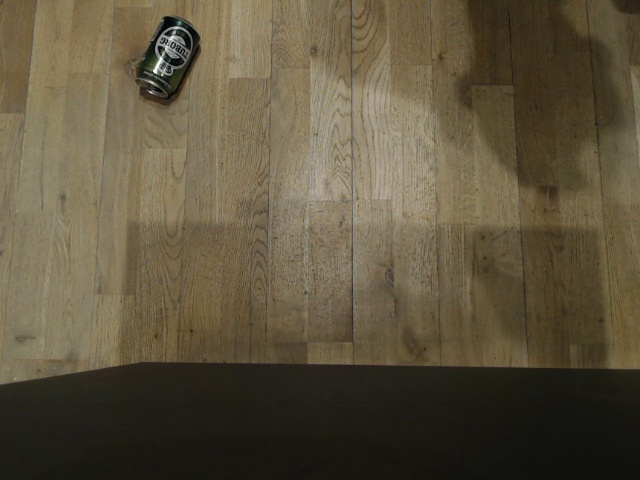beer: (133, 14, 202, 100)
